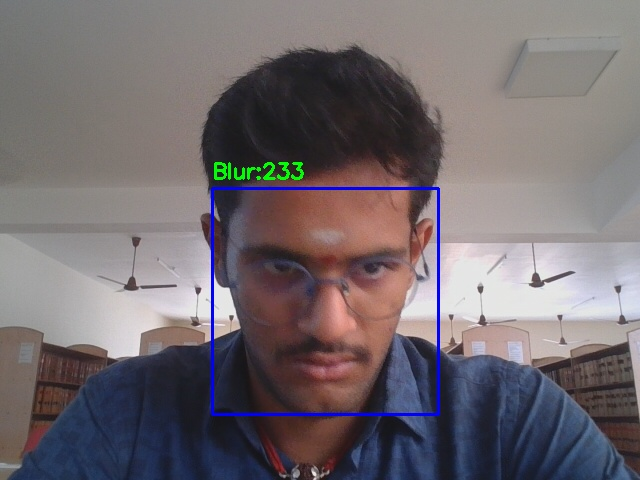real: (212, 188, 438, 414)
